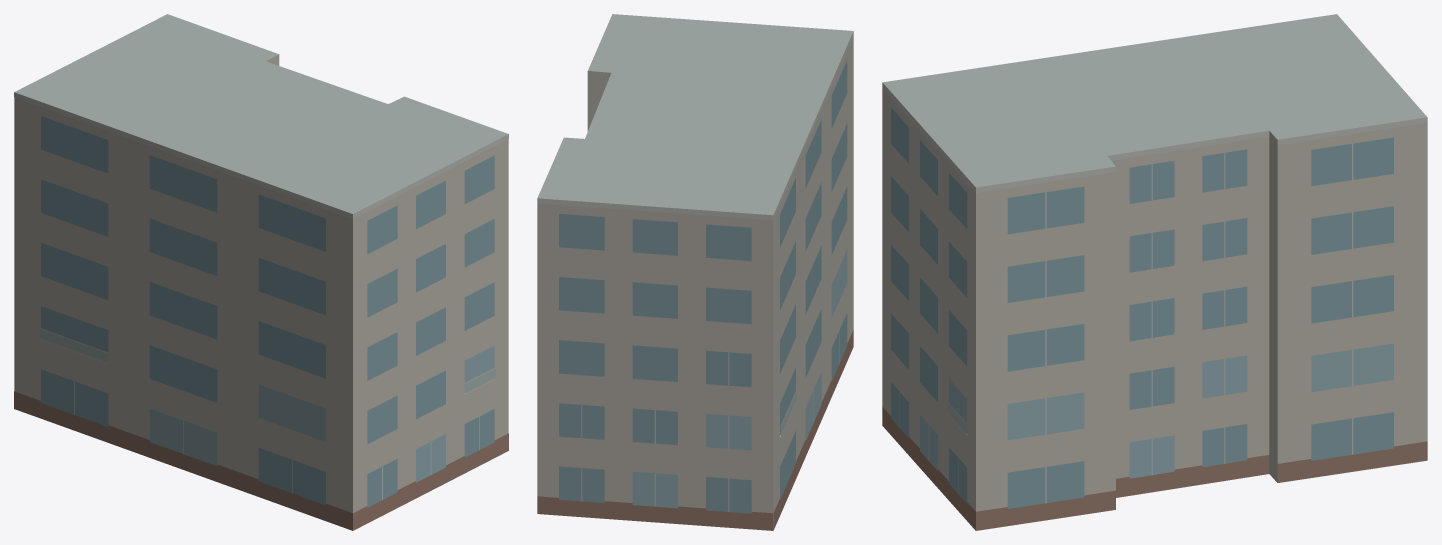
The model's file is survey-upis-32812366.glb.
3 renders of one model, left to right at view 1: azimuth 30°, elevation 25°; view 2: azimuth 150°, elevation 25°; view 3: azimuth 270°, elevation 25°, orthographic. The views are drawn at different scales.
Visible parts, largest first — view 1: survey-upis-32812366.tmp; view 2: survey-upis-32812366.tmp; view 3: survey-upis-32812366.tmp.
Part boxes in pixels (x1=…): survey-upis-32812366.tmp: x1=14, y1=14, x2=508, y2=530; survey-upis-32812366.tmp: x1=537, y1=14, x2=853, y2=530; survey-upis-32812366.tmp: x1=882, y1=14, x2=1427, y2=530.
Bounding box in the file's own units: 16.54 × 15.25 × 21.95.
